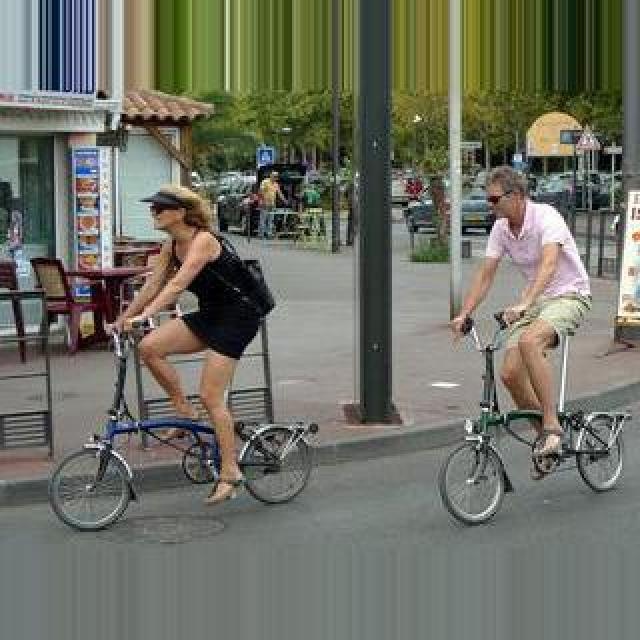Bus-Bike: (404, 188, 490, 232), (534, 172, 608, 208)
MC-Bike: (116, 182, 276, 510), (450, 166, 594, 472), (252, 172, 286, 240)
Person: (46, 310, 318, 536), (440, 312, 630, 530)
